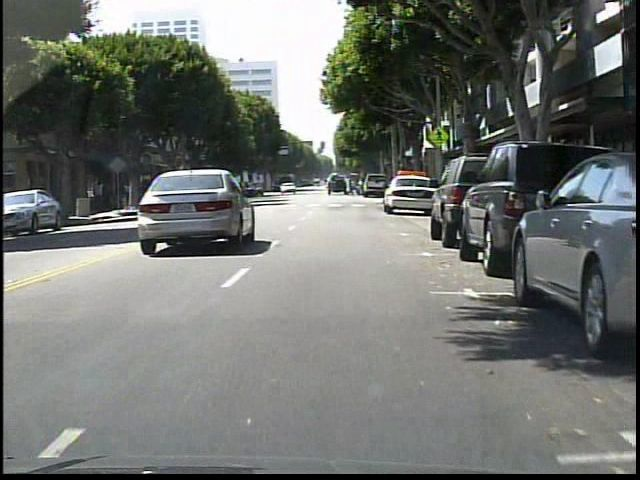person: (94, 177, 107, 214), (124, 181, 132, 207), (348, 175, 349, 196)
